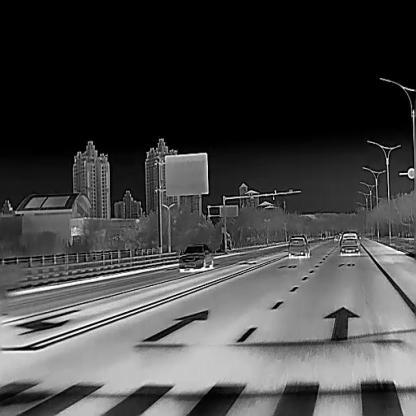car: (178, 242, 213, 269), (339, 230, 360, 254), (288, 234, 310, 256), (334, 232, 340, 239)
